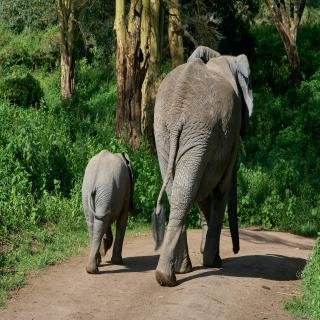Elephant: (142, 37, 266, 290), (75, 147, 138, 280)
